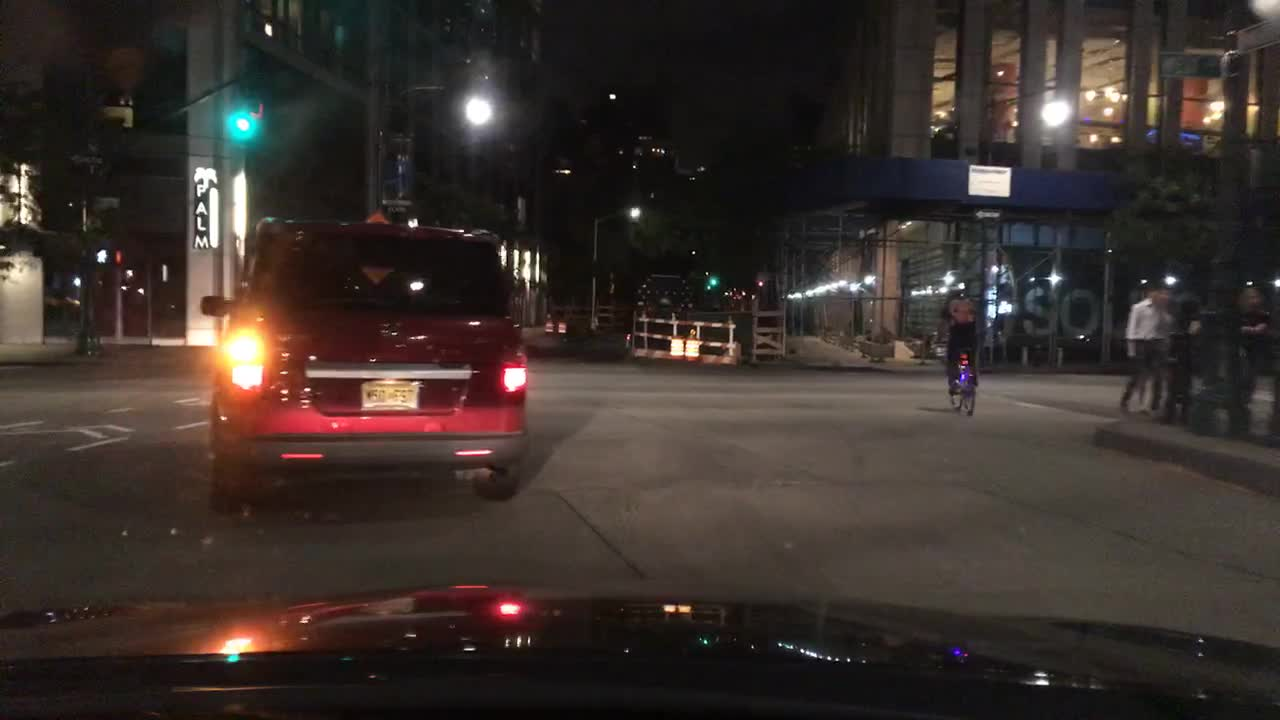bike: (948, 342, 978, 418)
car: (199, 215, 528, 516)
person: (1119, 282, 1177, 412), (1235, 285, 1269, 427)
rider: (945, 282, 983, 393)
traffic light: (226, 95, 263, 145), (110, 243, 128, 263), (92, 248, 108, 266), (707, 276, 719, 289)
traffic sign: (1235, 18, 1278, 61), (1160, 50, 1221, 73)
